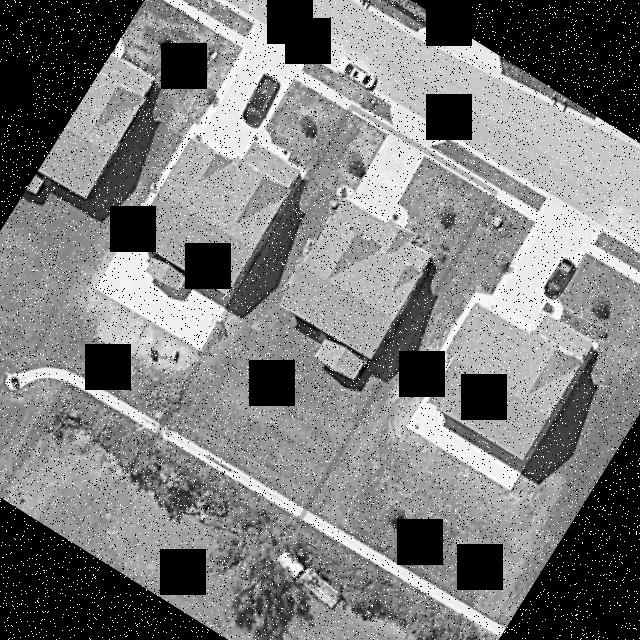Driveway: (333, 130, 426, 226)
Extra Driveway: (389, 104, 446, 148)
Extra Lawn: (430, 136, 507, 187), (352, 85, 392, 124)
Extra Sidewalk: (427, 145, 498, 190), (350, 100, 393, 126)
House: (277, 197, 432, 378)
Sidewalk: (158, 424, 302, 515), (426, 153, 490, 194), (340, 103, 383, 130)
